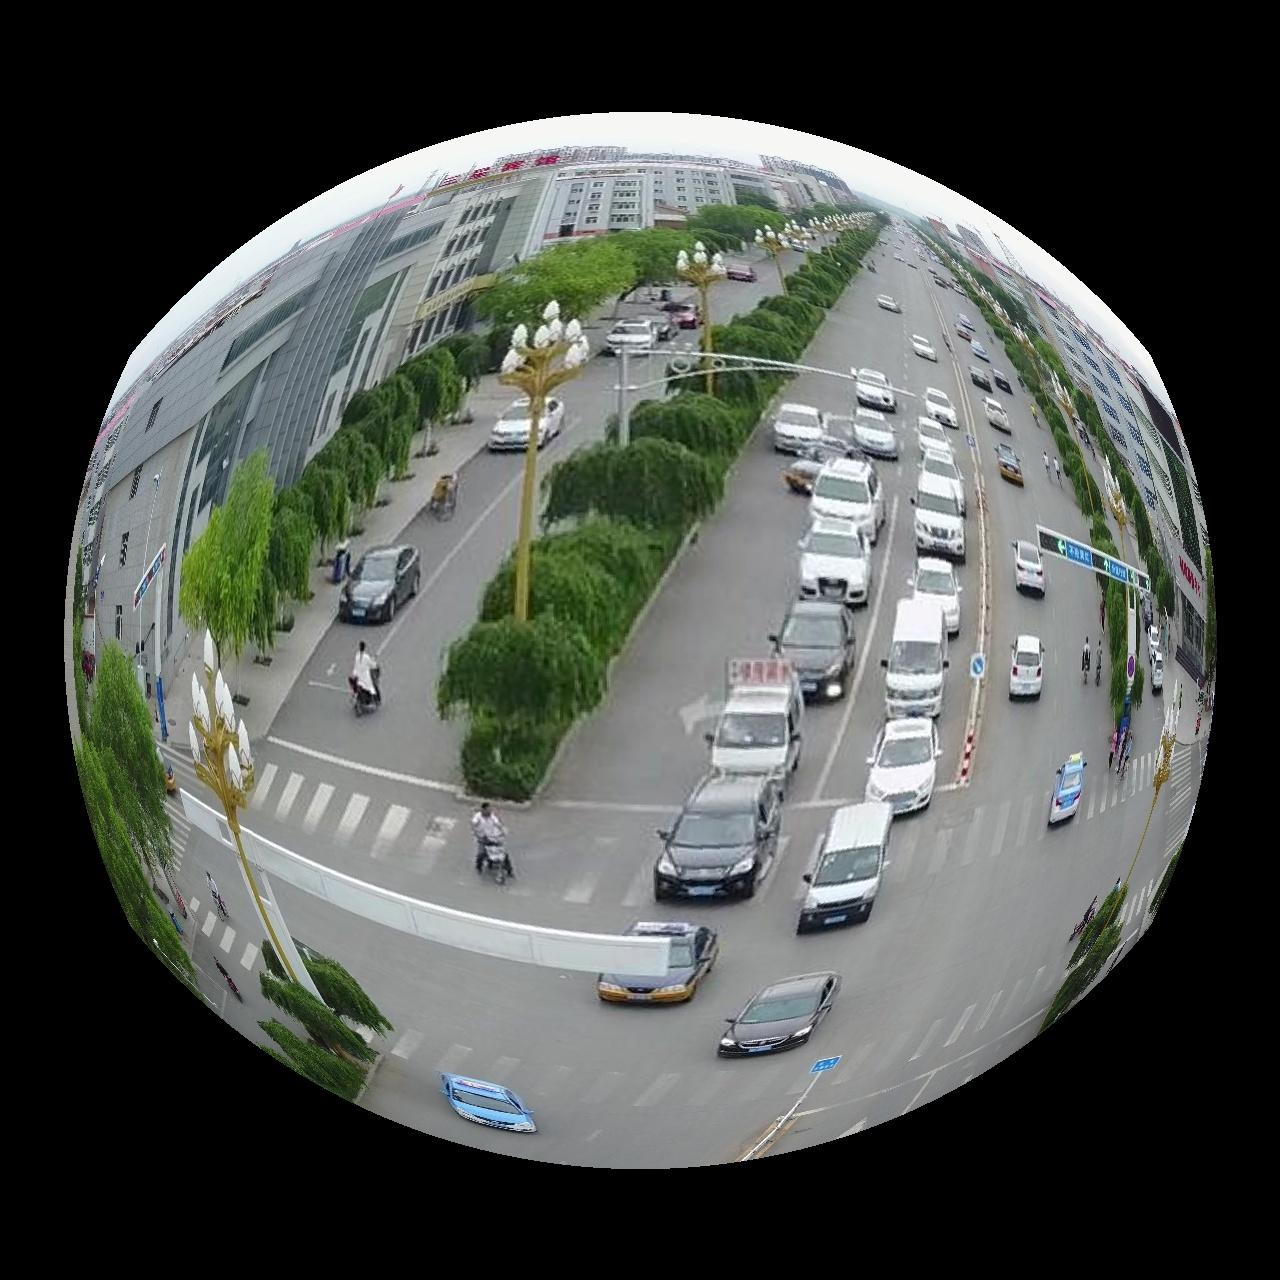cars: (655, 776, 781, 901), (707, 659, 805, 798), (798, 803, 894, 934), (719, 973, 842, 1060), (597, 922, 719, 1006), (770, 600, 857, 701), (883, 599, 949, 720), (867, 719, 941, 815), (810, 458, 886, 544), (799, 519, 873, 606), (338, 546, 420, 622), (440, 1075, 535, 1135), (915, 472, 967, 560), (908, 558, 964, 635), (784, 434, 847, 495), (1050, 753, 1090, 828), (774, 402, 823, 452), (855, 406, 899, 458), (1012, 635, 1046, 701), (488, 397, 530, 450), (1014, 542, 1048, 599), (606, 316, 658, 354), (855, 367, 896, 411), (925, 387, 960, 428), (539, 396, 565, 447), (998, 444, 1027, 486), (985, 396, 1014, 434)
trees: (438, 617, 605, 802), (74, 742, 193, 982), (181, 449, 277, 655), (530, 519, 666, 661), (86, 644, 171, 869), (543, 437, 724, 529), (315, 374, 418, 535), (476, 238, 636, 333), (1046, 885, 1130, 1033), (268, 462, 350, 601), (399, 333, 491, 455), (260, 974, 375, 1064), (257, 1020, 365, 1103), (297, 944, 392, 1035), (775, 227, 878, 309), (632, 392, 749, 458), (607, 226, 697, 309), (714, 297, 824, 361), (687, 204, 788, 252), (716, 370, 789, 415), (481, 560, 513, 621), (260, 942, 288, 981), (672, 376, 704, 393)
